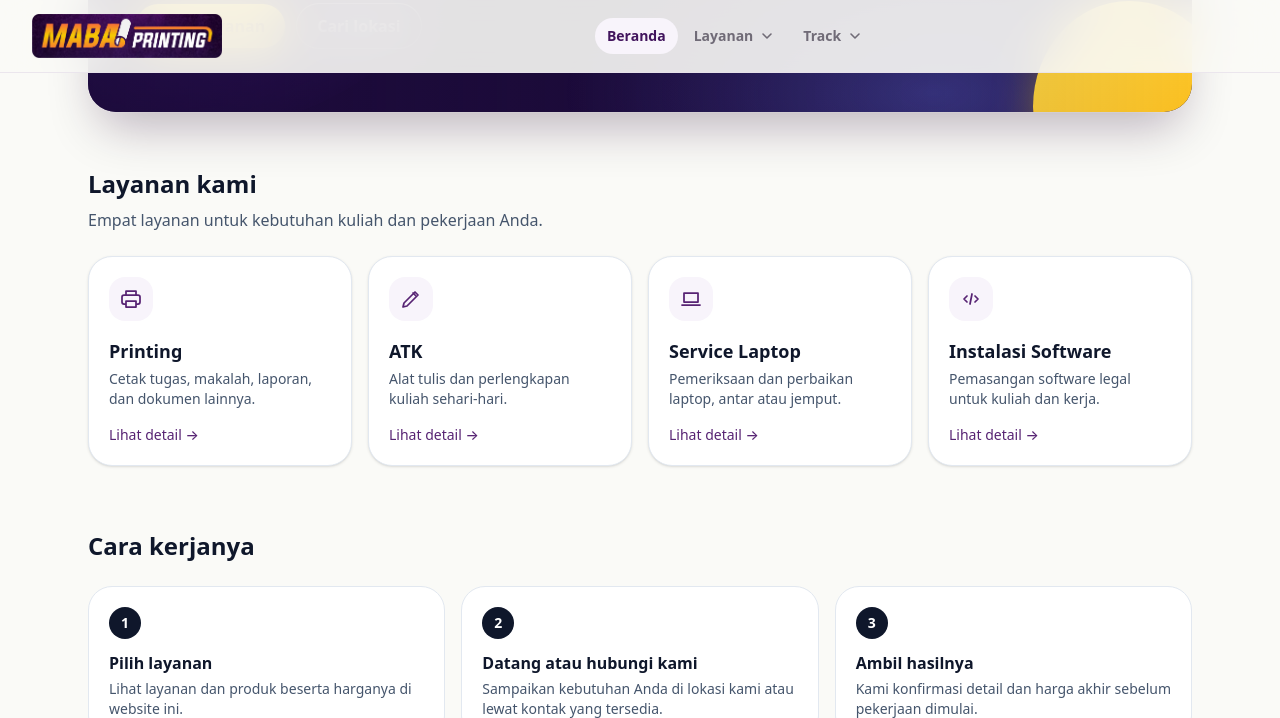
it: homepage › navigates from a business-line card to its page
(page scrolled)
Click the link "ATK": [411, 299] box [368,256,632,466]
(page scrolled)
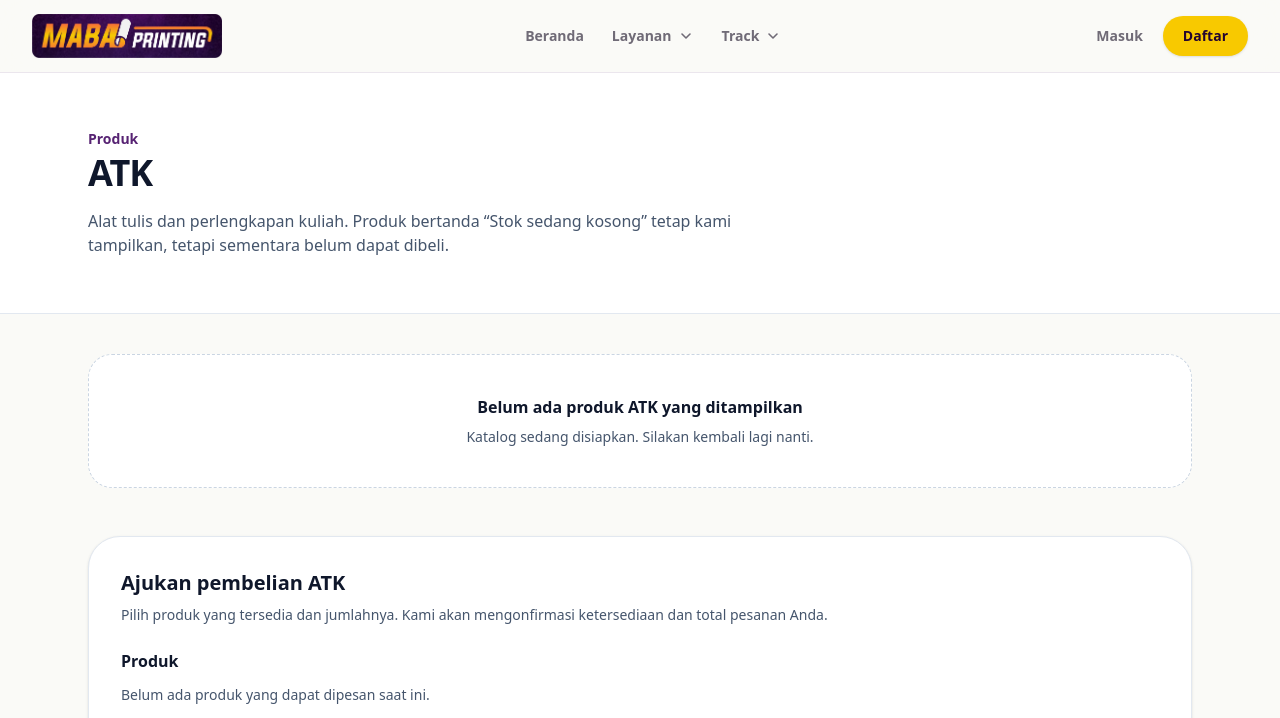
Now the heading "ATK" is shown, box [88,148,152,197]
